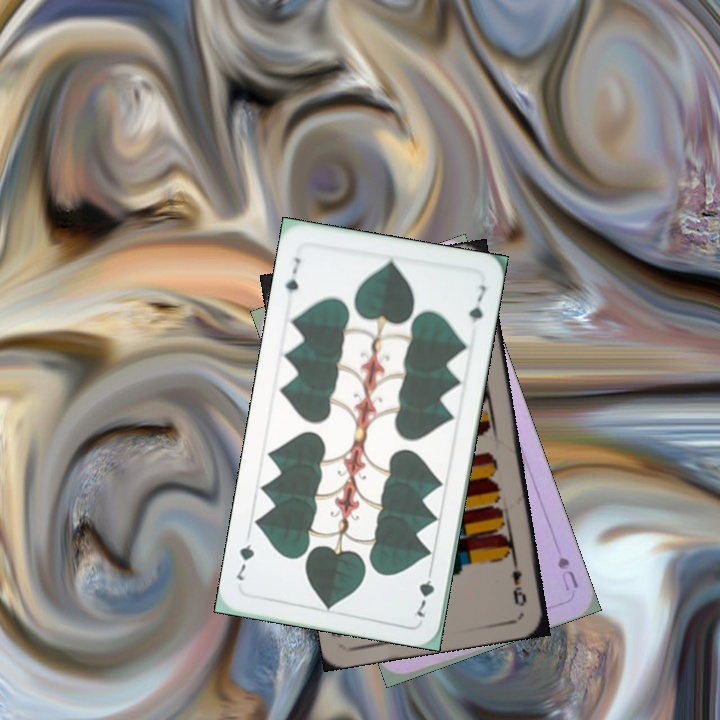E9: (507, 553, 530, 609)
G7: (411, 563, 437, 620), (281, 253, 303, 296)
SU: (553, 552, 581, 593)
